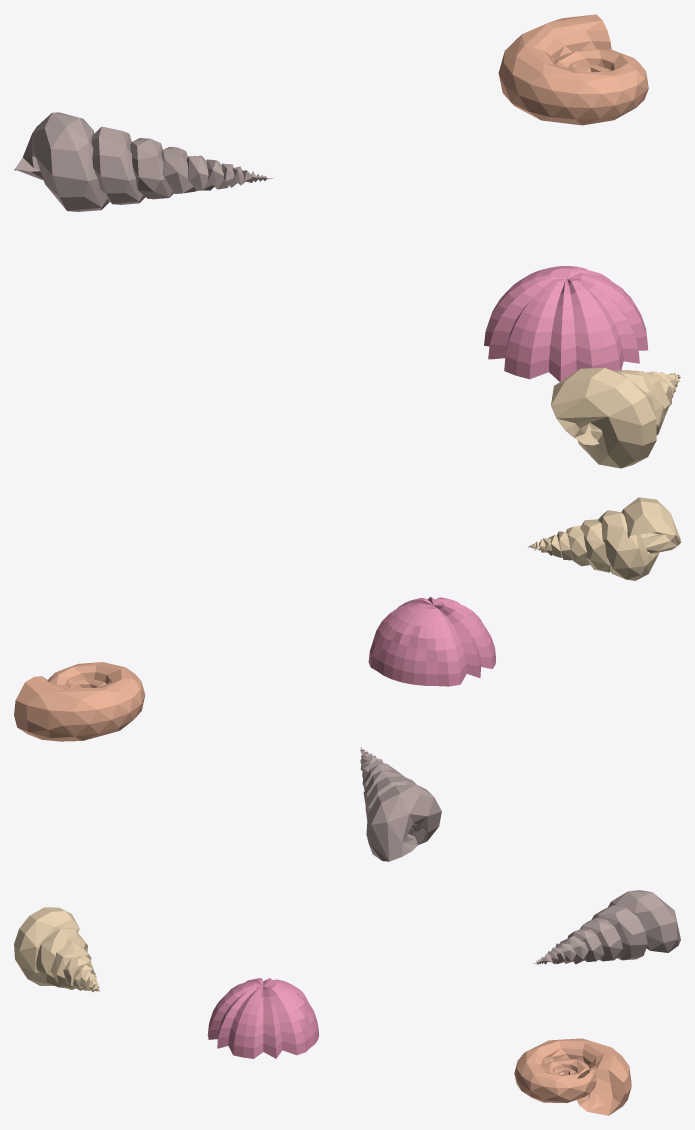
Rendered from N7_010_VoOc 1.glb.
3 views of the same model, one above another, from view 1: azimuth 30°, elevation 25°; view 2: azimuth 150°, elevation 25°; view 3: azimuth 270°, elevation 25° (orthographic). The views are drawn at different scales.
Parts seen in each view (by area): view 1: Sphere, Oc3, Oc1, Oc2; view 2: Sphere, Oc1, Oc2, Oc3; view 3: Sphere, Oc1, Oc3, Oc2.
Boxes of the visible parts, x1=… form: Sphere: x1=484, y1=266, x2=648, y2=381; Oc3: x1=14, y1=112, x2=273, y2=211; Oc1: x1=498, y1=14, x2=648, y2=125; Oc2: x1=551, y1=368, x2=680, y2=468; Sphere: x1=368, y1=597, x2=495, y2=686; Oc1: x1=14, y1=662, x2=145, y2=741; Oc2: x1=528, y1=497, x2=680, y2=580; Oc3: x1=360, y1=747, x2=441, y2=861; Sphere: x1=207, y1=978, x2=319, y2=1058; Oc1: x1=514, y1=1038, x2=631, y2=1115; Oc3: x1=533, y1=890, x2=680, y2=964; Oc2: x1=14, y1=907, x2=99, y2=991.
Size of the model in its own units: 1.25 by 0.2611 by 1.87.
Materials: 4 (2 with a texture image).
